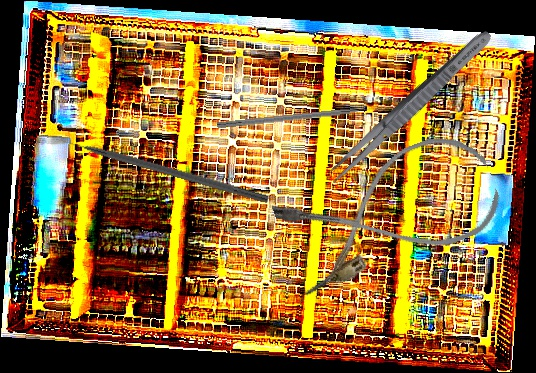Cannula: (269, 122, 509, 300)
Dressing Forceps: (323, 25, 497, 189)
Hook Surgical: (54, 132, 271, 204), (217, 105, 378, 131)
